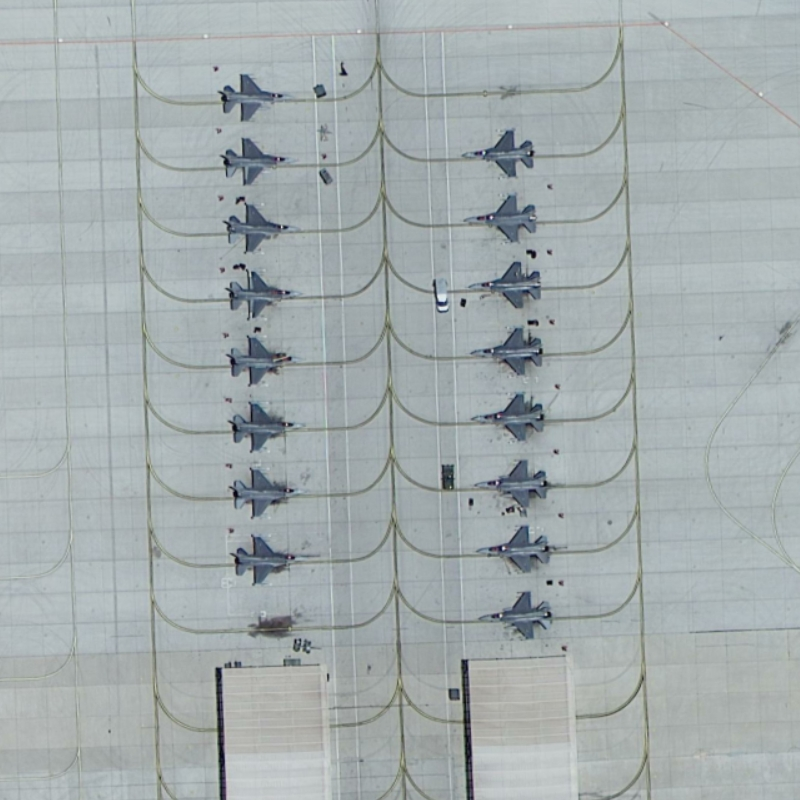A5: (225, 530, 319, 592), (222, 193, 304, 263), (459, 122, 541, 184), (226, 397, 309, 457), (218, 62, 293, 128), (224, 263, 303, 324), (224, 332, 305, 391), (475, 586, 556, 645), (217, 133, 299, 191), (465, 323, 547, 380), (460, 189, 540, 247), (471, 521, 555, 576), (226, 464, 307, 521), (466, 389, 548, 445), (471, 457, 550, 512), (464, 257, 545, 310)
